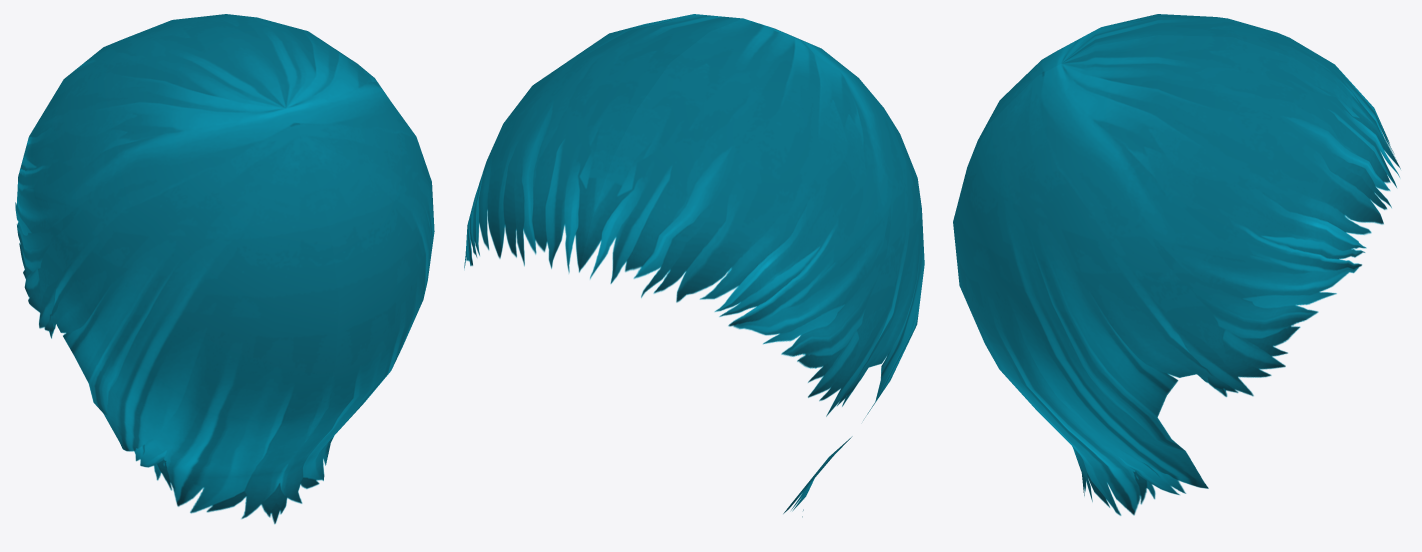
File: original-head-local.glb
The picture shows the model from 3 angles, left to right: view 1: azimuth 30°, elevation 25°; view 2: azimuth 150°, elevation 25°; view 3: azimuth 270°, elevation 25°; orthographic projection. The views are drawn at different scales.
Parts seen in each view (by area): view 1: original-head-local; view 2: original-head-local; view 3: original-head-local.
Part boxes in pixels (box(x1,y1,x2,y2)): original-head-local: box(15, 14, 434, 524); original-head-local: box(464, 14, 924, 517); original-head-local: box(953, 14, 1400, 515).
Bounding box in the file's own units: 0.195 × 0.2488 × 0.217.
Materials: 1 (1 with a texture image).
